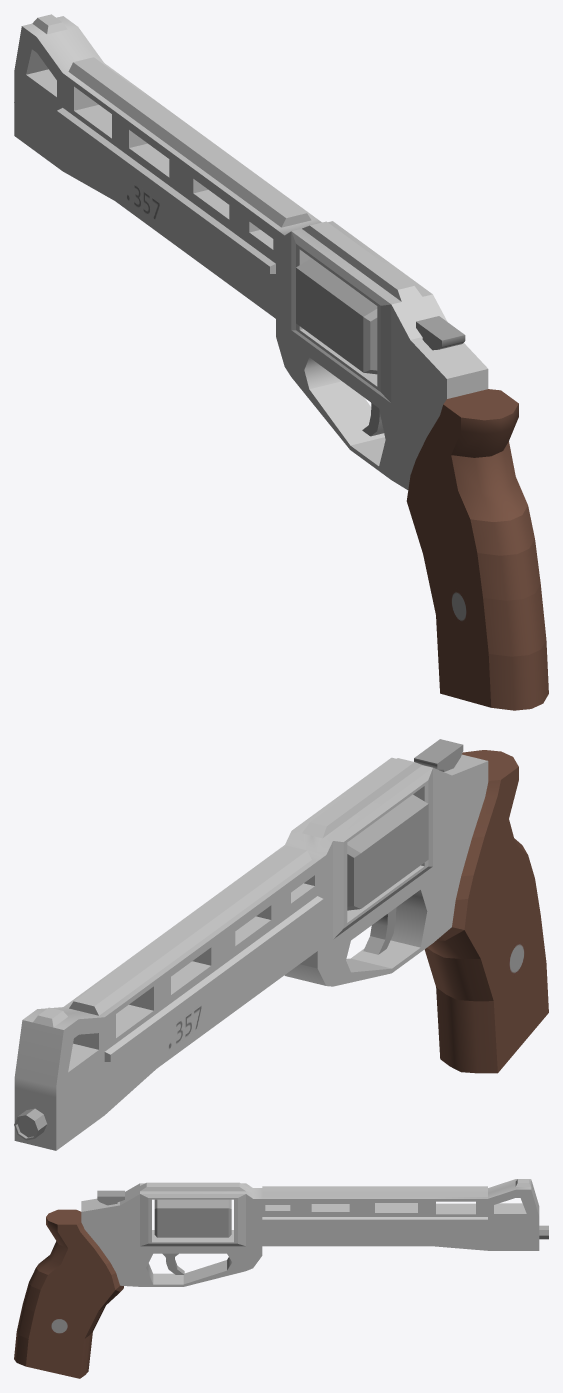
Rendered from Revolver.fbx.
3 views of the same model, one above another, from view 1: azimuth 30°, elevation 25°; view 2: azimuth 150°, elevation 25°; view 3: azimuth 270°, elevation 25° (orthographic). The views are drawn at different scales.
Visible parts, largest first — view 1: polySurface19, polySurface20, polySurface21; view 2: polySurface19, polySurface20, polySurface21, polySurface22, polySurface18; view 3: polySurface19, polySurface20, polySurface21, polySurface22.
Part boxes in pixels (x1,y1,x2,y2): polySurface19: (14,14,548,710); polySurface20: (296,258,377,374); polySurface21: (416,316,465,350); polySurface19: (14,750,548,1150); polySurface20: (347,794,428,910); polySurface21: (414,739,463,771); polySurface22: (363,907,396,954); polySurface18: (14,1108,46,1140); polySurface19: (14,1179,539,1378); polySurface20: (154,1199,231,1237); polySurface21: (97,1190,124,1205); polySurface22: (162,1253,184,1274).
Bounding box in the file's own units: 0.286 × 1.53 × 3.89.
2 materials, 1 textured.
